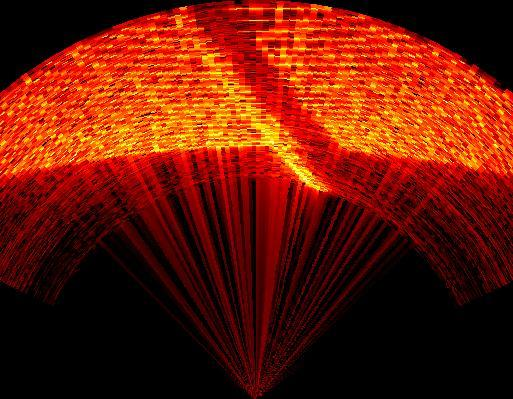pipe: (186, 0, 352, 180)
